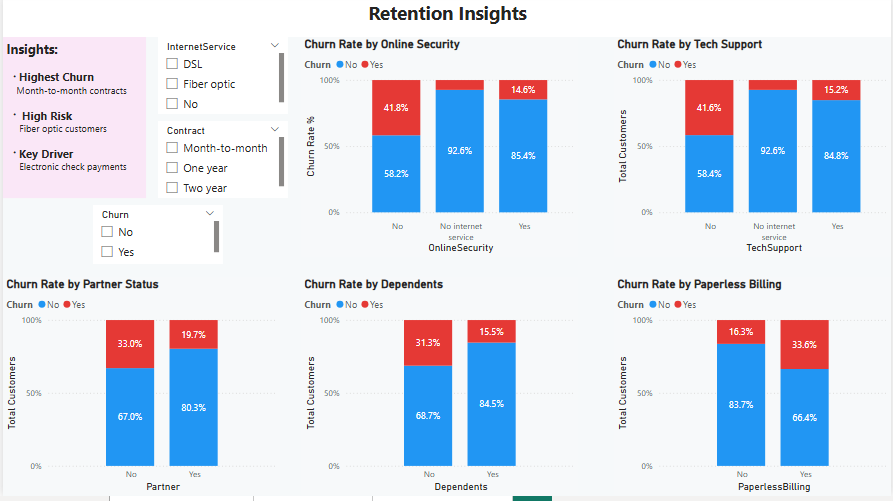

The dashboard page shown, as its layout file describes it:
{"tool":"powerbi","page":{"name":"Retention Insights","canvas":[1280,720],"ordinal":2},"visuals":[{"type":"hundredPercentStackedColumnChart","title":"Churn Rate by Online Security","fields":{"Category":["WA_Fn-UseC_-Telco-Customer-Churn.OnlineSecurity"],"Y":["WA_Fn-UseC_-Telco-Customer-Churn.Total Customers"],"Series":["WA_Fn-UseC_-Telco-Customer-Churn.Churn"]},"box":[429.1,59,400,316.8],"z":0},{"type":"hundredPercentStackedColumnChart","title":"Churn Rate by Tech Support","fields":{"Category":["WA_Fn-UseC_-Telco-Customer-Churn.TechSupport"],"Y":["WA_Fn-UseC_-Telco-Customer-Churn.Total Customers"],"Series":["WA_Fn-UseC_-Telco-Customer-Churn.Churn"]},"box":[879.8,59,400.3,316.8],"z":1000},{"type":"hundredPercentStackedColumnChart","title":"Churn Rate by Partner Status","fields":{"Category":["WA_Fn-UseC_-Telco-Customer-Churn.Partner"],"Y":["WA_Fn-UseC_-Telco-Customer-Churn.Total Customers"],"Series":["WA_Fn-UseC_-Telco-Customer-Churn.Churn"]},"box":[0,404.6,400.3,315.4],"z":2000},{"type":"hundredPercentStackedColumnChart","title":"Churn Rate by Dependents","fields":{"Category":["WA_Fn-UseC_-Telco-Customer-Churn.Dependents"],"Y":["WA_Fn-UseC_-Telco-Customer-Churn.Total Customers"],"Series":["WA_Fn-UseC_-Telco-Customer-Churn.Churn"]},"box":[429.1,404.6,400.3,315.4],"z":3000},{"type":"hundredPercentStackedColumnChart","title":"Churn Rate by Paperless Billing","fields":{"Category":["WA_Fn-UseC_-Telco-Customer-Churn.PaperlessBilling"],"Y":["WA_Fn-UseC_-Telco-Customer-Churn.Total Customers"],"Series":["WA_Fn-UseC_-Telco-Customer-Churn.Churn"]},"box":[879.8,404.6,400.3,315.4],"z":4000},{"type":"slicer","fields":{"Values":["WA_Fn-UseC_-Telco-Customer-Churn.Contract"]},"box":[223.2,180,187.2,110.9],"z":5000},{"type":"slicer","fields":{"Values":["WA_Fn-UseC_-Telco-Customer-Churn.InternetService"]},"box":[223.2,59,187.2,110.9],"z":6000},{"type":"slicer","fields":{"Values":["WA_Fn-UseC_-Telco-Customer-Churn.Churn"]},"box":[129.6,301,187.2,85],"z":7000},{"type":"textbox","box":[0,0,1280.2,59],"z":8000},{"type":"textbox","box":[0,59,205.9,231.8],"z":8001}]}

Visuals, with their boxes in screenshot pixels (x1, y1, x2, y2), scaled from the page's 1280x720 canvas onto the 893x501 screenshot:
"Churn Rate by Online Security" hundredPercentStackedColumnChart: box=[299, 41, 578, 261]
"Churn Rate by Tech Support" hundredPercentStackedColumnChart: box=[614, 41, 892, 261]
"Churn Rate by Partner Status" hundredPercentStackedColumnChart: box=[0, 282, 279, 500]
"Churn Rate by Dependents" hundredPercentStackedColumnChart: box=[299, 282, 579, 500]
"Churn Rate by Paperless Billing" hundredPercentStackedColumnChart: box=[614, 282, 892, 500]
slicer - WA_Fn-UseC_-Telco-Customer-Churn.Contract: box=[156, 125, 286, 202]
slicer - WA_Fn-UseC_-Telco-Customer-Churn.InternetService: box=[156, 41, 286, 118]
slicer - WA_Fn-UseC_-Telco-Customer-Churn.Churn: box=[90, 209, 221, 269]
textbox: box=[0, 0, 892, 41]
textbox: box=[0, 41, 144, 202]
